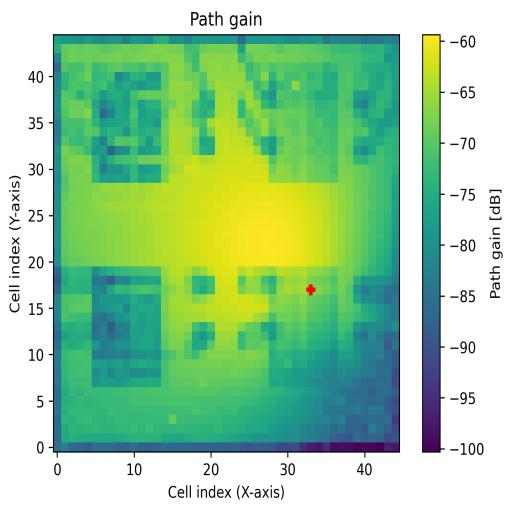Concrete: (269, 63, 338, 183)
Glass: (92, 61, 170, 184)
Metal: (276, 264, 339, 386)
Wood: (90, 268, 162, 387)
